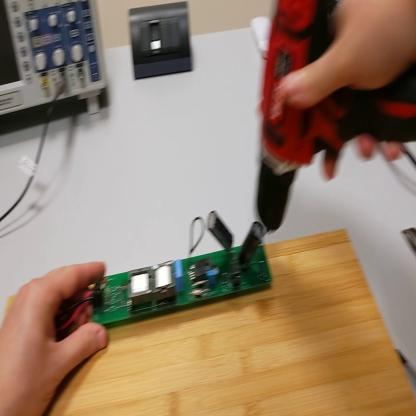electric screwdriver: (250, 2, 416, 231)
hand: (276, 2, 412, 176), (1, 259, 109, 416)
high voltage board: (50, 206, 271, 343)
oscilloscope: (2, 2, 109, 120)
screwdriver-: (397, 348, 416, 381)
working area: (41, 230, 415, 416)
